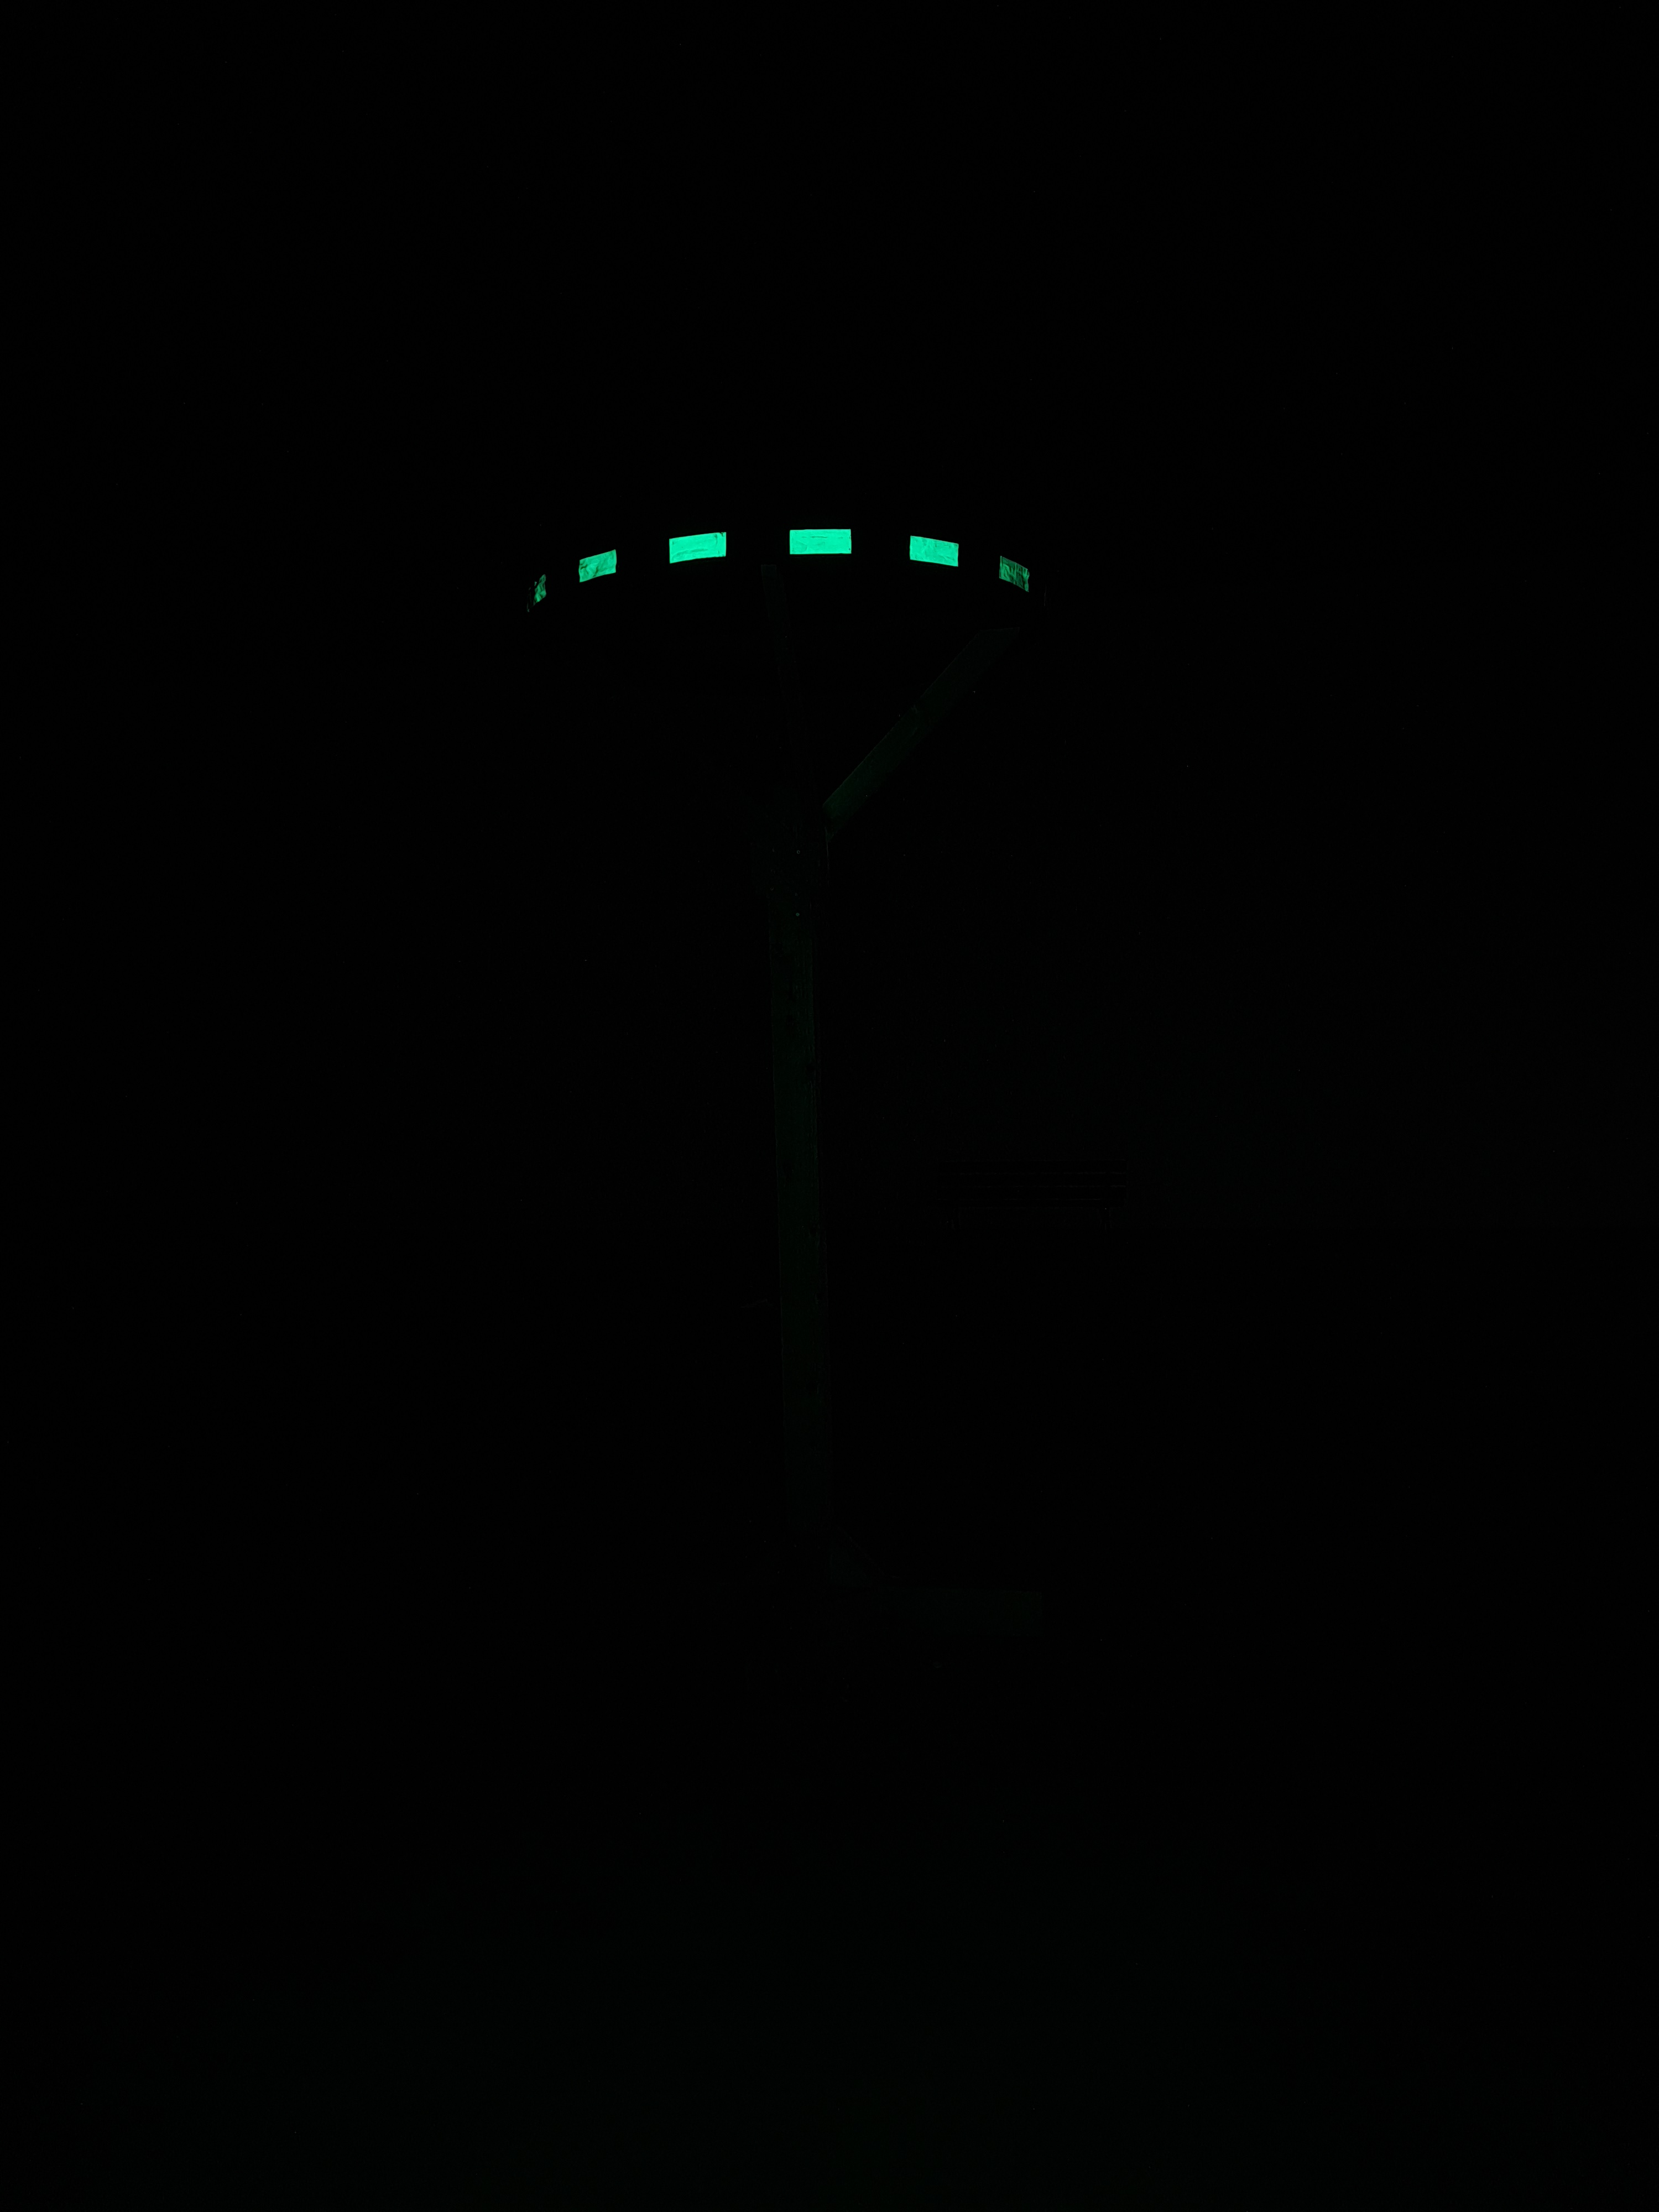hoop: (525, 516, 1046, 617)
